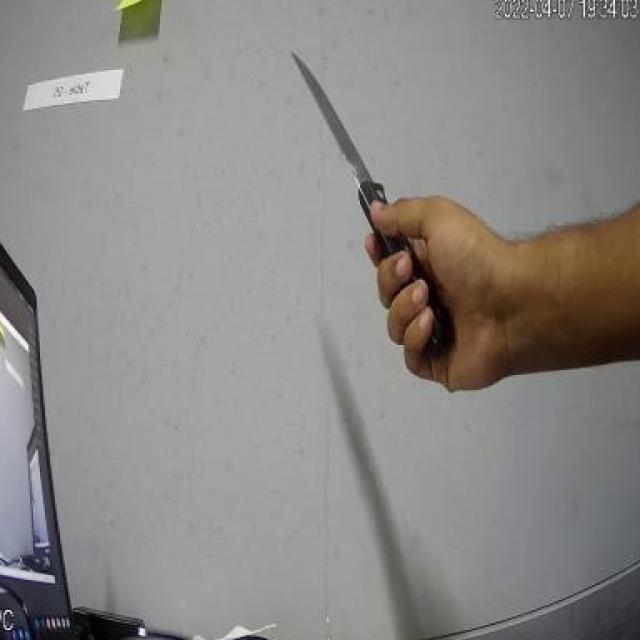Knife: (281, 44, 452, 338)
